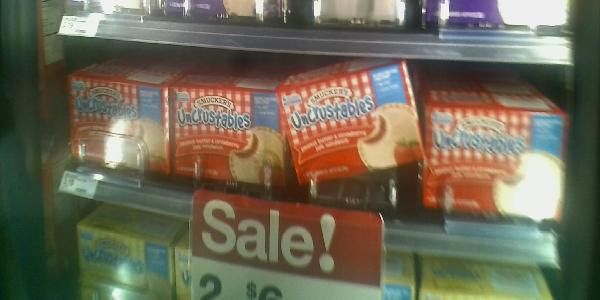icecream: (426, 103, 568, 238), (171, 61, 286, 216), (275, 79, 430, 179), (71, 47, 172, 193)
